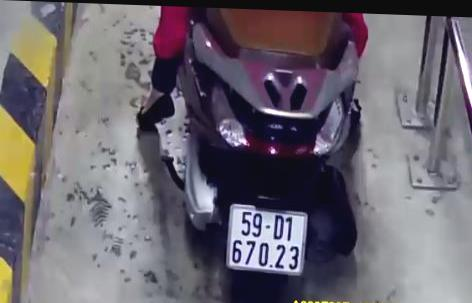License_Plate: (216, 200, 314, 286)
